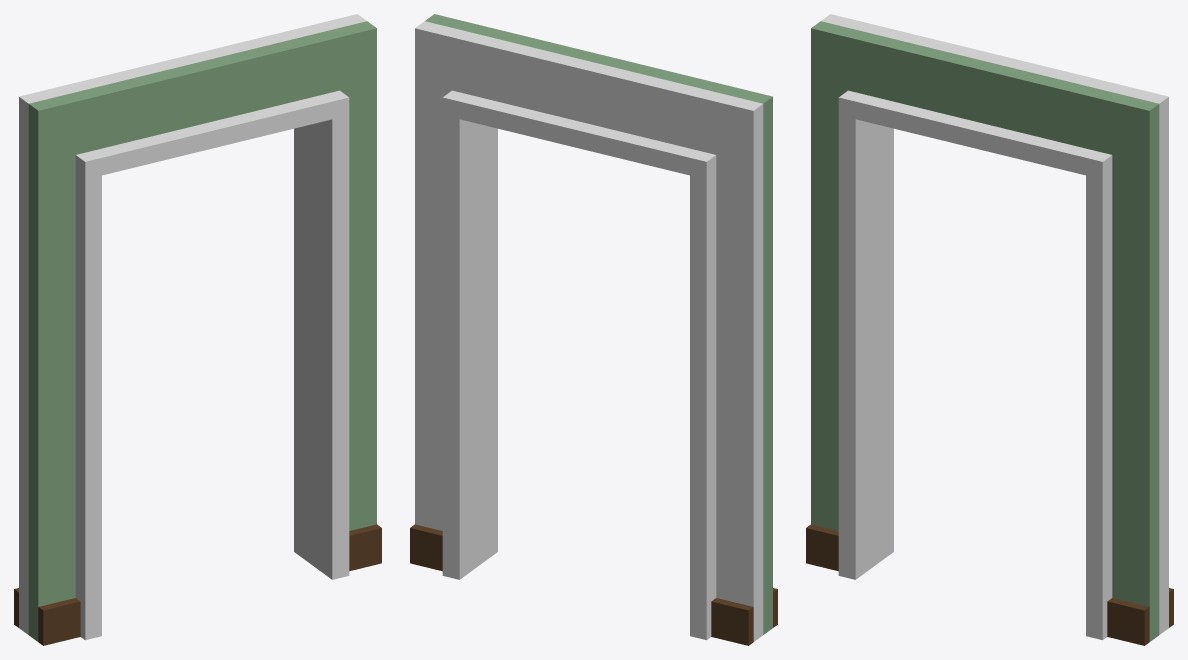
The model's file is h_wall_1_doorFrame_multi.fbx.
3 views of the same model, side by side, from view 1: azimuth 30°, elevation 25°; view 2: azimuth 150°, elevation 25°; view 3: azimuth 330°, elevation 25° (orthographic).
Parts seen in each view (by area): view 1: Cube, DoorFrame; view 2: Cube, DoorFrame; view 3: Cube, DoorFrame.
Boxes of the visible parts, <box> form: Cube: <box>14,14,381,645</box>; DoorFrame: <box>75,90,349,640</box>; Cube: <box>410,14,777,645</box>; DoorFrame: <box>442,90,716,640</box>; Cube: <box>806,14,1173,645</box>; DoorFrame: <box>838,90,1112,640</box>.
Bounding box in the file's own units: 200 × 300 × 39.37.
